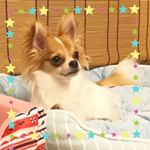puppy: (22, 11, 90, 107)
